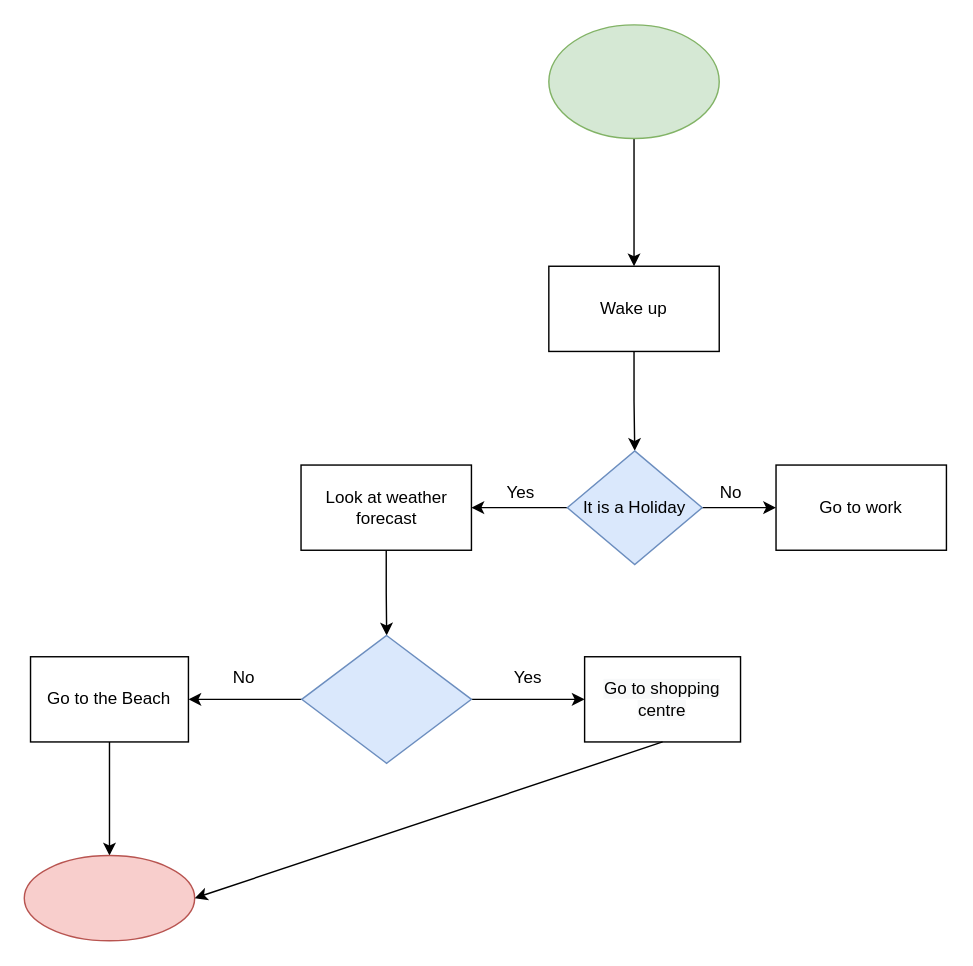
This 973x966 diagram has some shape labels left out. The centre of each missing label's shape, as x and y in pixels:
"END" belongs at point (109, 897).
"Forecast shows possibility of rain" belongs at point (385, 698).
"Start" belongs at point (633, 80).
